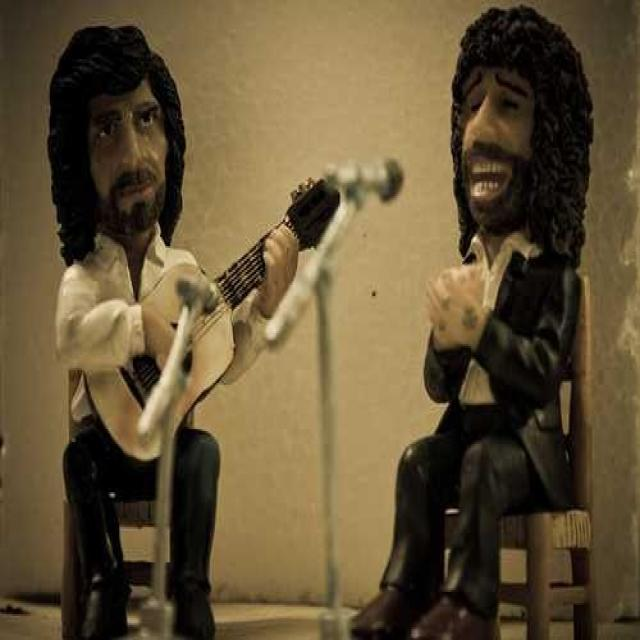microphone: (171, 270, 230, 326)
